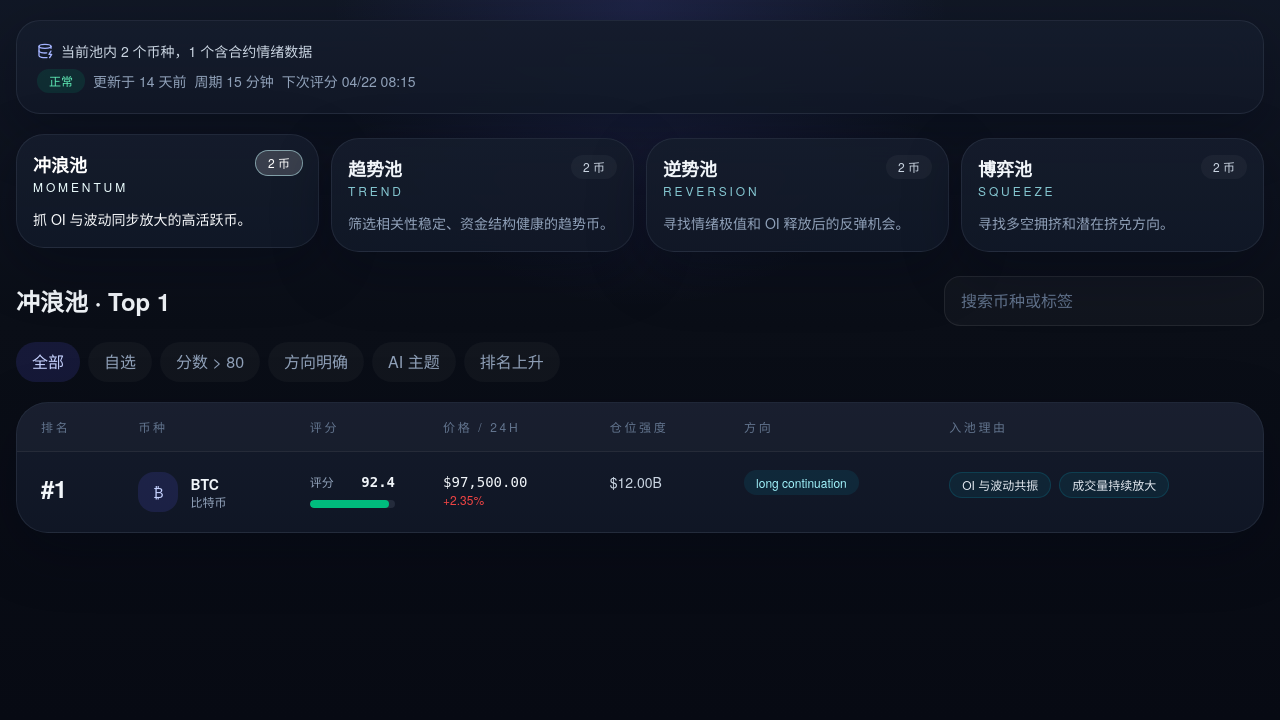
Test: RankingExplorer › shows overlapping members when a coin belongs to multiple pools
The image size is (1280, 720).
Click the button "趋势池 Trend 2 币 筛选相关性稳定、资金结构健康的趋势币。" at (375, 169), box [331,138,634,252]
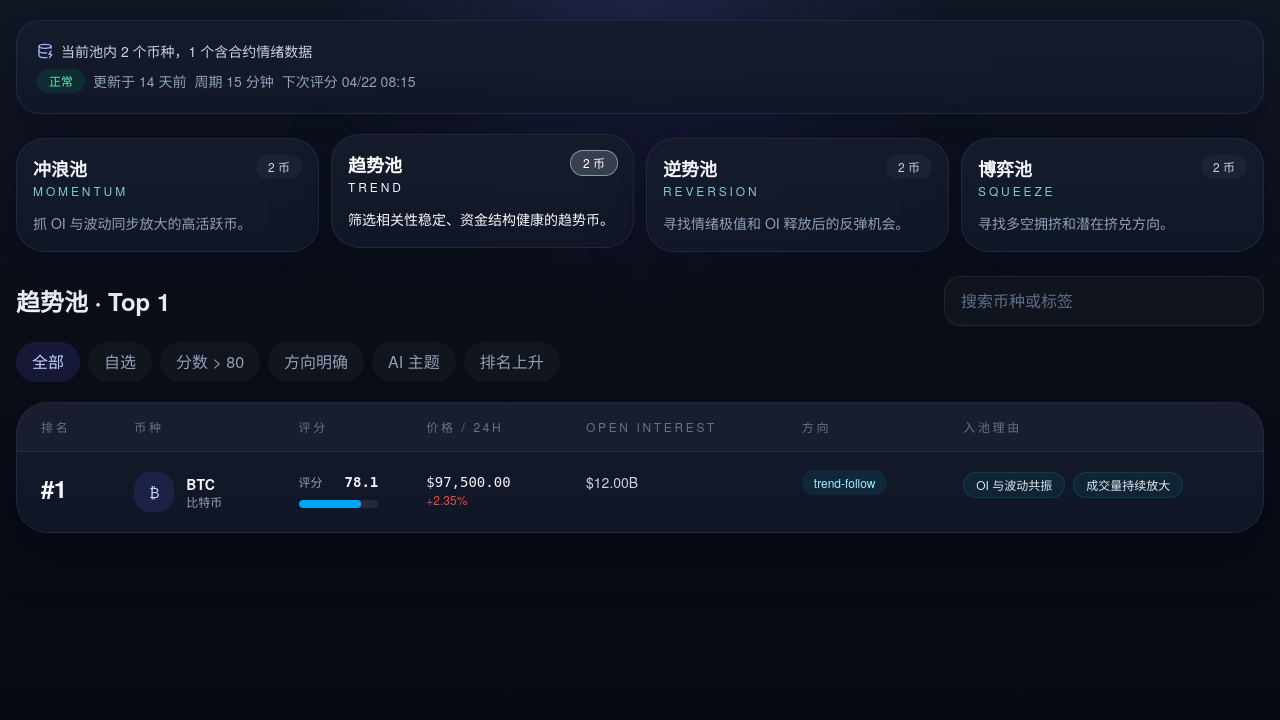
Expected: the text "比特币" is shown, [186,494,222,510]
Expected: the heading "趋势池 · Top 1" is shown, [16,285,170,317]
